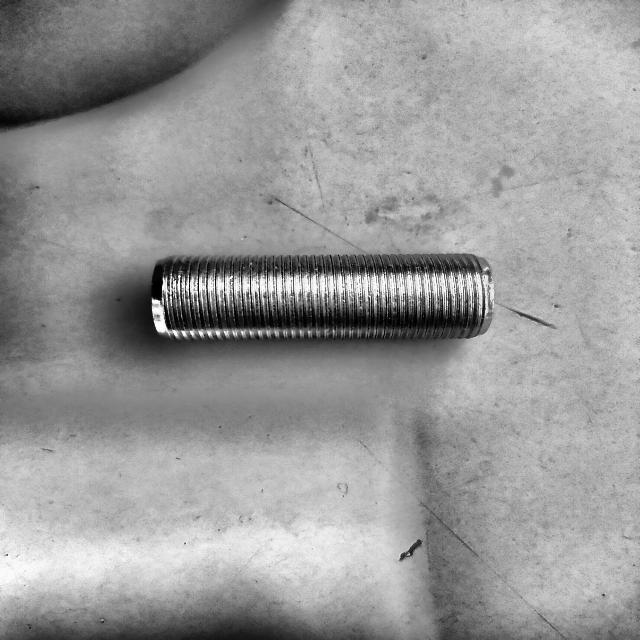Broken: (153, 252, 493, 341)
